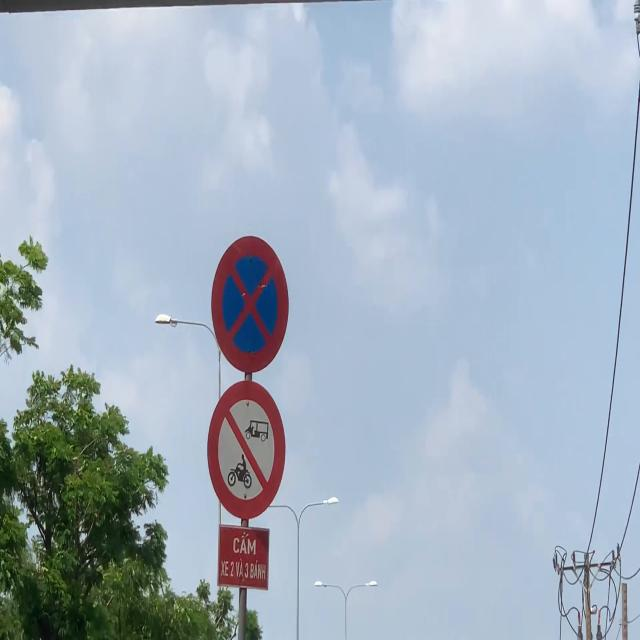Cam con lai: (206, 379, 287, 521)
Cam dung va do: (211, 235, 289, 373)
